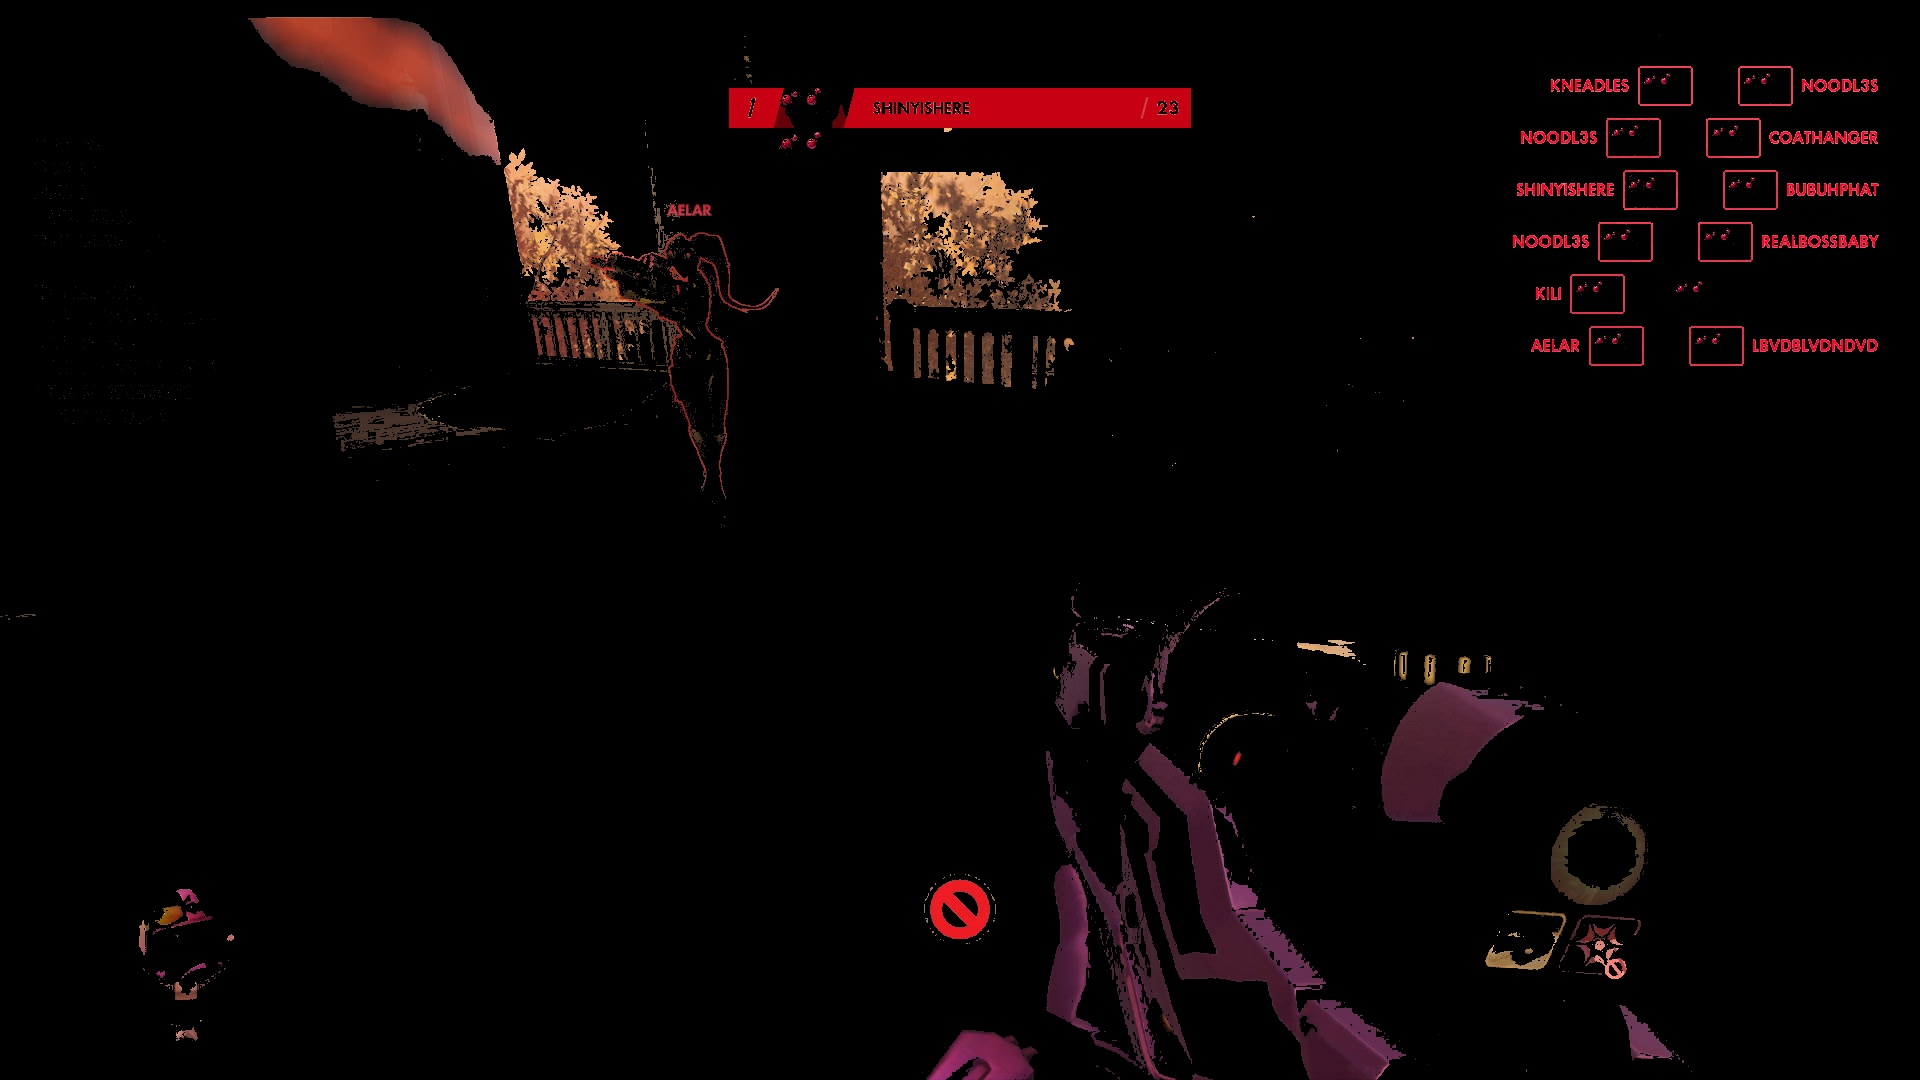widowmaker: (654, 232, 735, 533)
